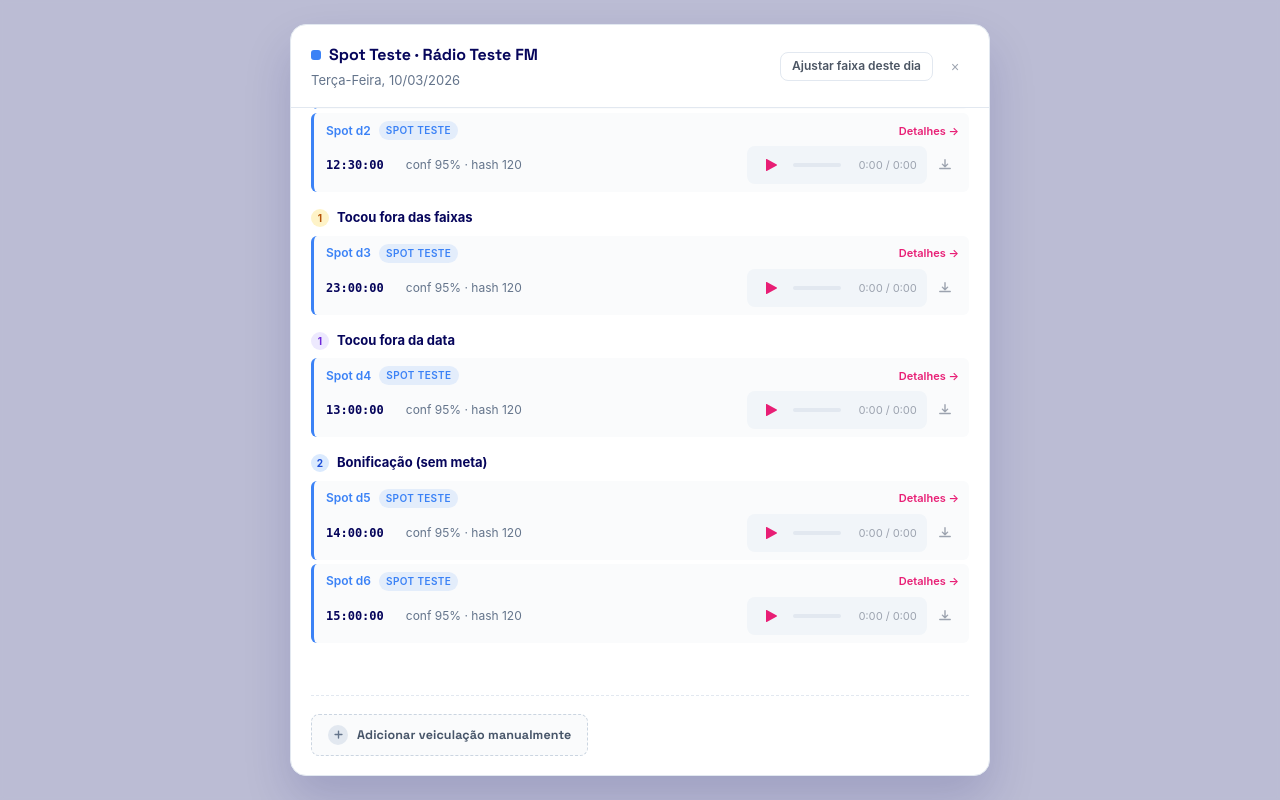
Test: DayDetailModal — inserção manual em lote (admin) › abre o formulário, cancela e volta pro botão
(page scrolled)
Click the button "Adicionar veiculação manualmente" at [450, 735], box [311,714,588,756]
(page scrolled)
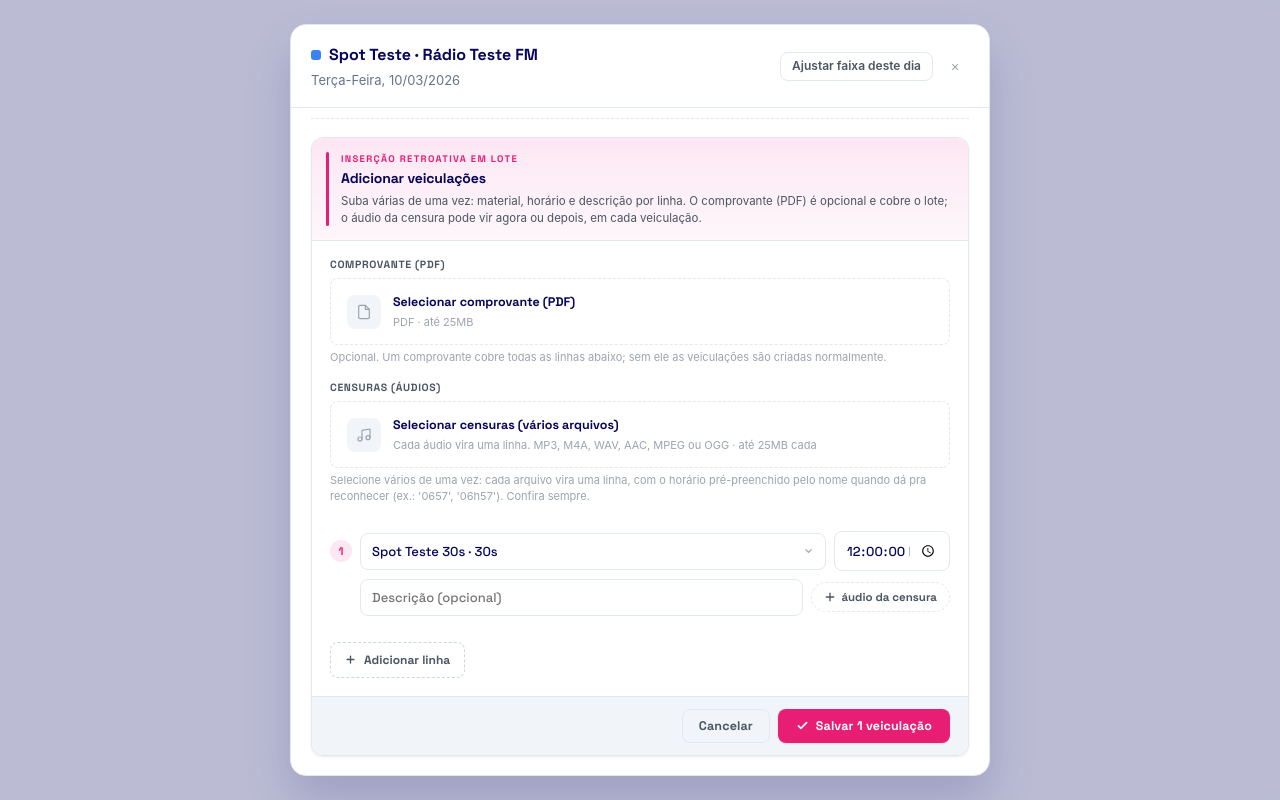
Check: the text "Adicionar veiculações" is shown, box [341,169,486,187]
Check: the button "Salvar 1 veiculação" is shown, box [778,709,950,743]
Click the button "Cancelar" at [726, 726], box [682,709,770,743]
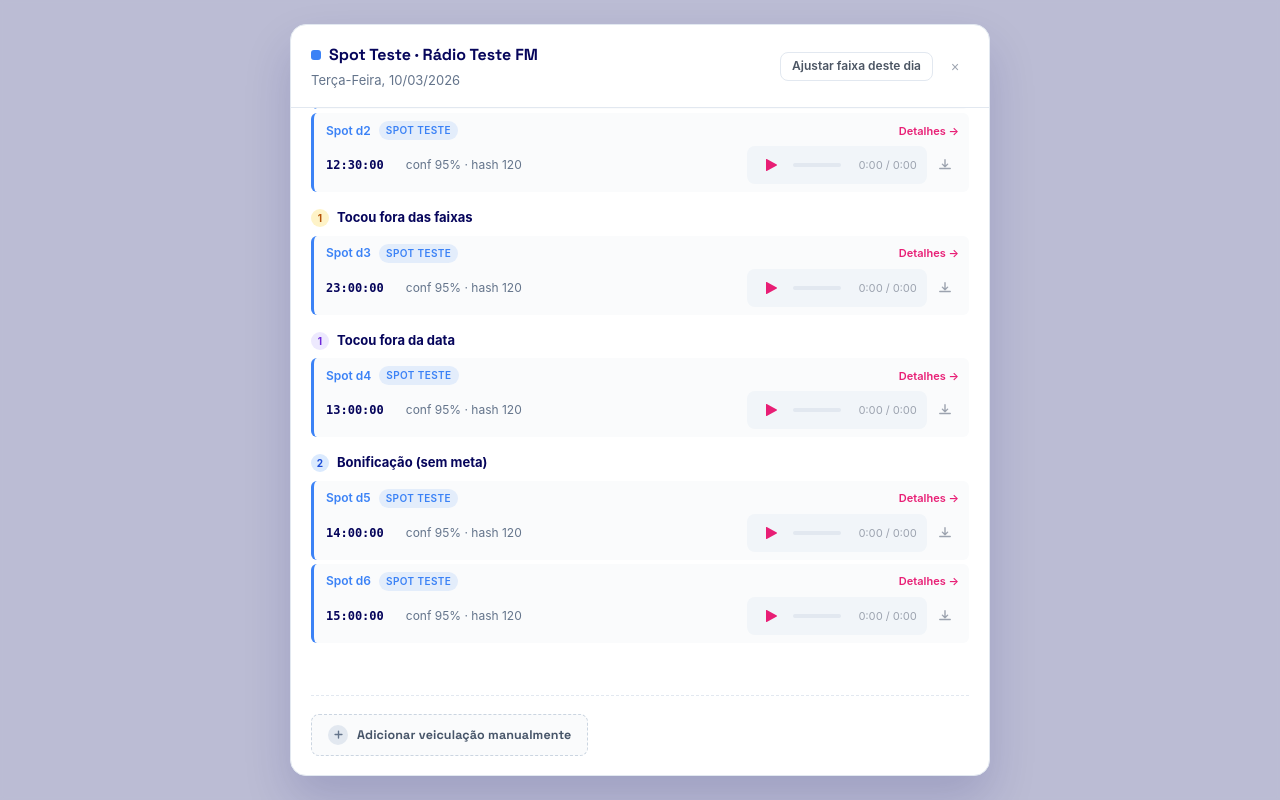
Check: the button "Adicionar veiculação manualmente" is shown, box [311,714,588,756]
